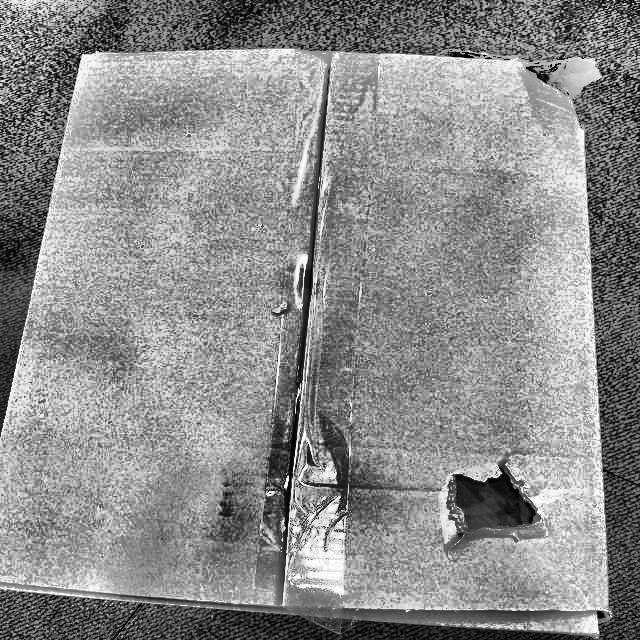box: (0, 50, 611, 639)
hole: (435, 459, 557, 549), (519, 62, 585, 102)
